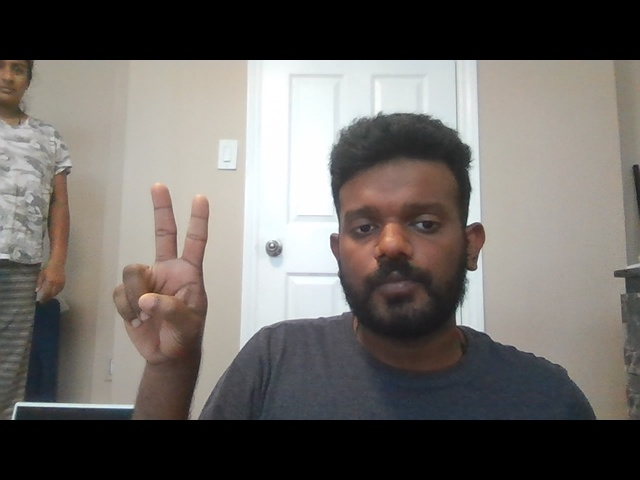peace: (108, 181, 215, 373)
